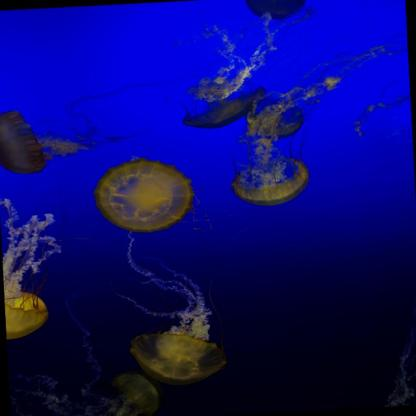jellyfish: (92, 154, 195, 235), (127, 328, 230, 388), (231, 154, 311, 209), (180, 86, 268, 130), (0, 107, 48, 178), (110, 366, 167, 415), (248, 100, 305, 140), (5, 292, 50, 342), (245, 0, 308, 23)
